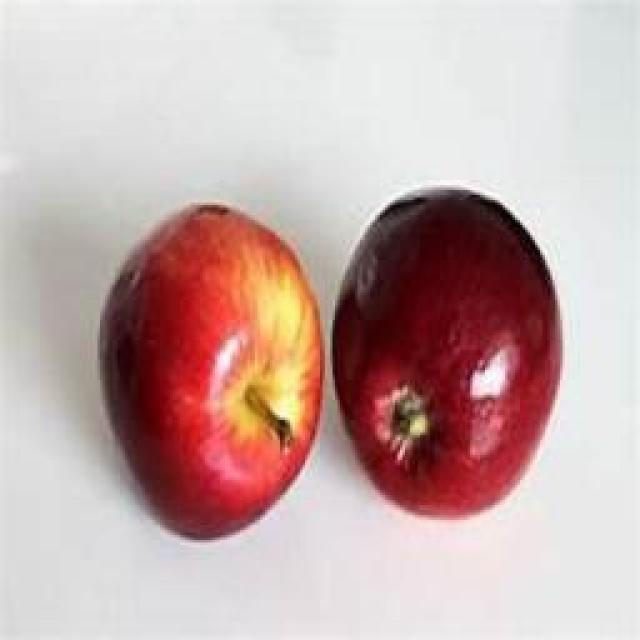Apple: (332, 188, 562, 518), (100, 204, 324, 539)
